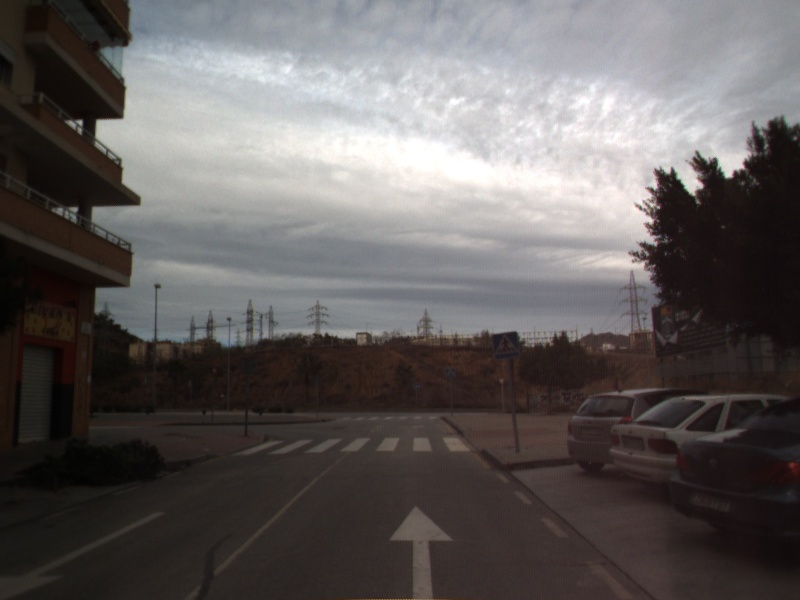STRAIGHT: (387, 503, 456, 600)
